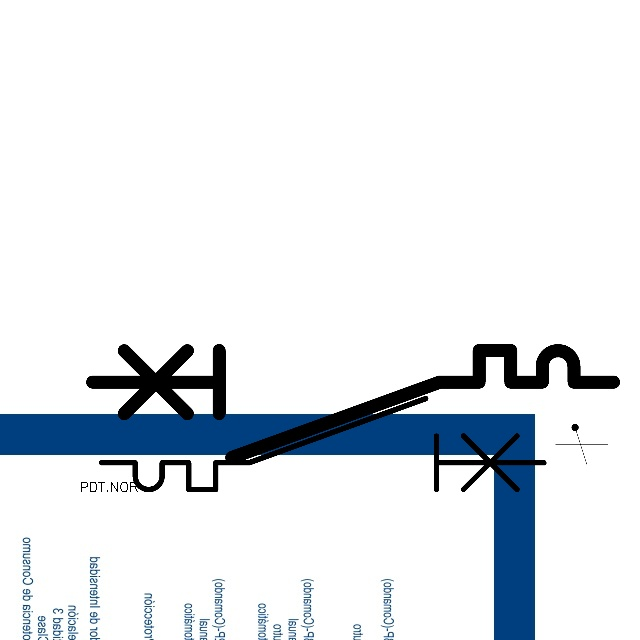interruptor_termomagnetico: (79, 337, 627, 471), (90, 387, 556, 501)
